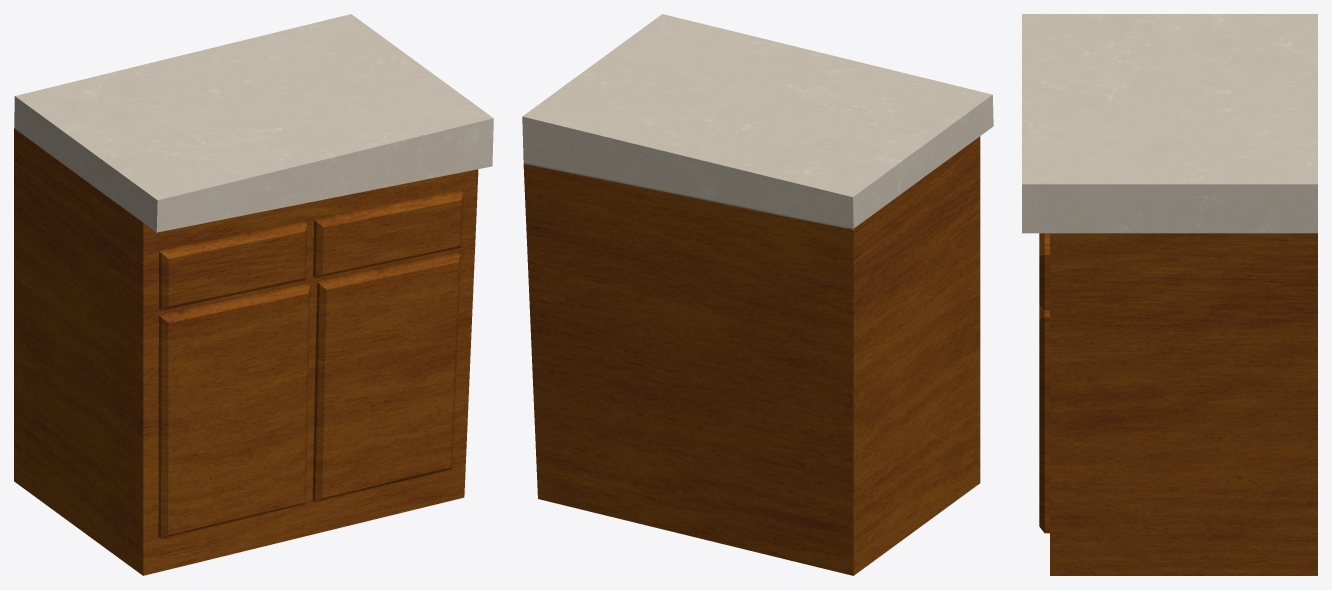
Rendered from Counter3.fbx.
The picture shows the model from 3 angles, left to right: view 1: azimuth 30°, elevation 25°; view 2: azimuth 150°, elevation 25°; view 3: azimuth 270°, elevation 25°; orthographic projection. The views are drawn at different scales.
Parts seen in each view (by area): view 1: Counter3:polySurface4countertop; view 2: Counter3:polySurface4countertop; view 3: Counter3:polySurface4countertop.
Boxes of the visible parts, box(x1,y1,x2,y2) form: Counter3:polySurface4countertop: box(14, 14, 493, 575); Counter3:polySurface4countertop: box(522, 14, 993, 575); Counter3:polySurface4countertop: box(1022, 14, 1317, 575).
Size of the model in its own units: 7.54 by 8.23 by 5.52.
